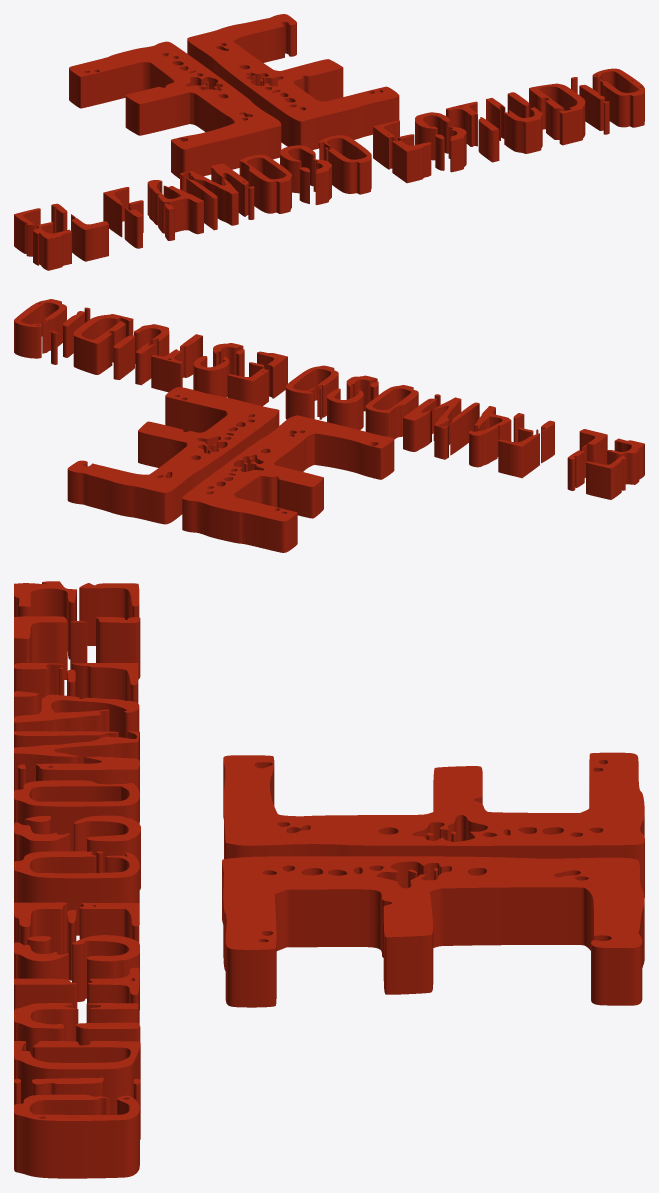
Rendered from elfamoso1.obj.
The picture shows the model from 3 angles, top to bottom: view 1: azimuth 30°, elevation 25°; view 2: azimuth 150°, elevation 25°; view 3: azimuth 270°, elevation 25°; orthographic projection. The views are drawn at different scales.
Visible parts, largest first — view 1: Curve_path3400; view 2: Curve_path3400; view 3: Curve_path3400.
Part boxes in pixels (x1,y1,x2,y2): Curve_path3400: [14, 14, 644, 270]; Curve_path3400: [14, 299, 644, 552]; Curve_path3400: [14, 581, 644, 1178].
Size of the model in its own units: 0.2411 by 0.012 by 0.1192.
